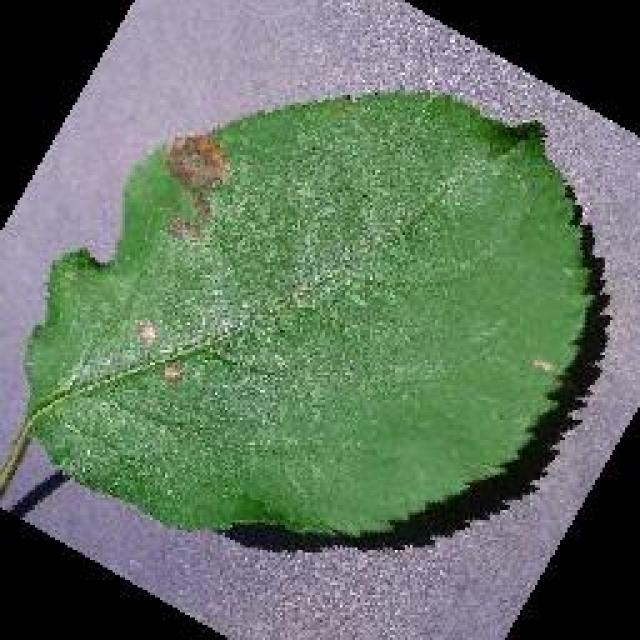Black_rot: (0, 85, 600, 543)
